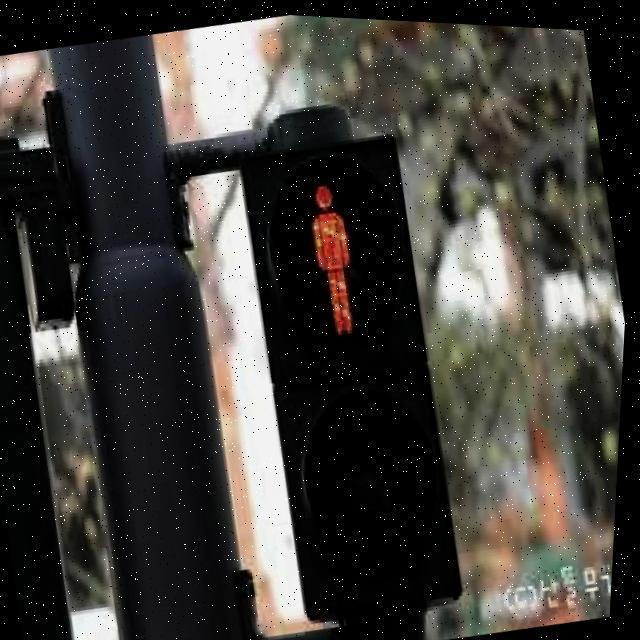red_light: (280, 170, 386, 342)
